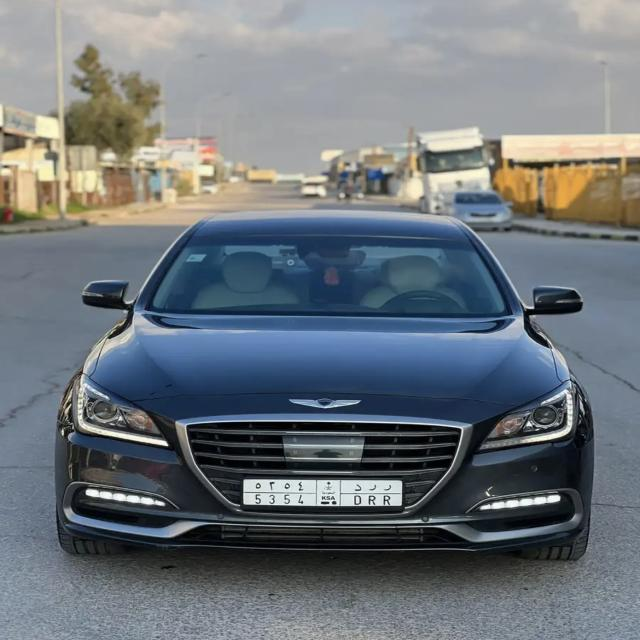license_plate: (242, 478, 404, 512)
